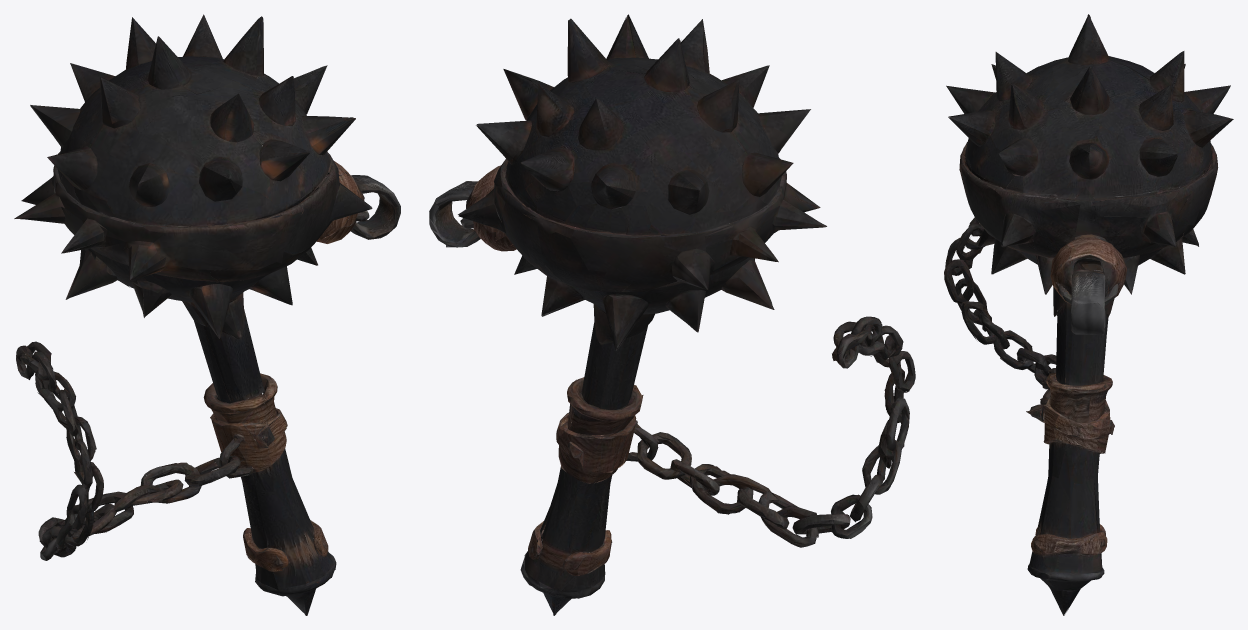
Rendered from flail_1.glb.
3 views of the same model, side by side, from view 1: azimuth 30°, elevation 25°; view 2: azimuth 150°, elevation 25°; view 3: azimuth 270°, elevation 25° (orthographic). The views are drawn at different scales.
Visible parts, largest first — view 1: flail; view 2: flail; view 3: flail.
Boxes of the visible parts, x1,y1,x2,y2 form: flail: (14,14,400,615); flail: (429,14,915,615); flail: (944,14,1233,615).
Size of the model in its own units: 0.6128 by 0.9 by 0.4366.
Materials: 1 (1 with a texture image).
